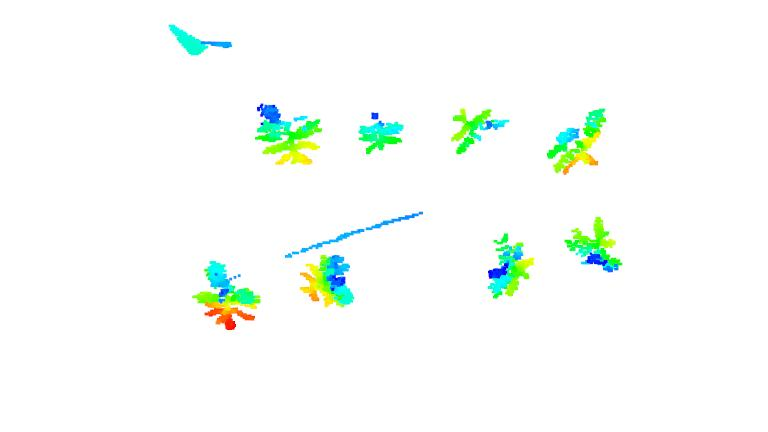chickpea: (542, 104, 616, 175), (249, 100, 324, 169), (190, 259, 259, 329), (298, 251, 364, 310), (571, 214, 628, 277), (485, 235, 534, 301), (447, 103, 508, 155), (355, 112, 409, 158)
